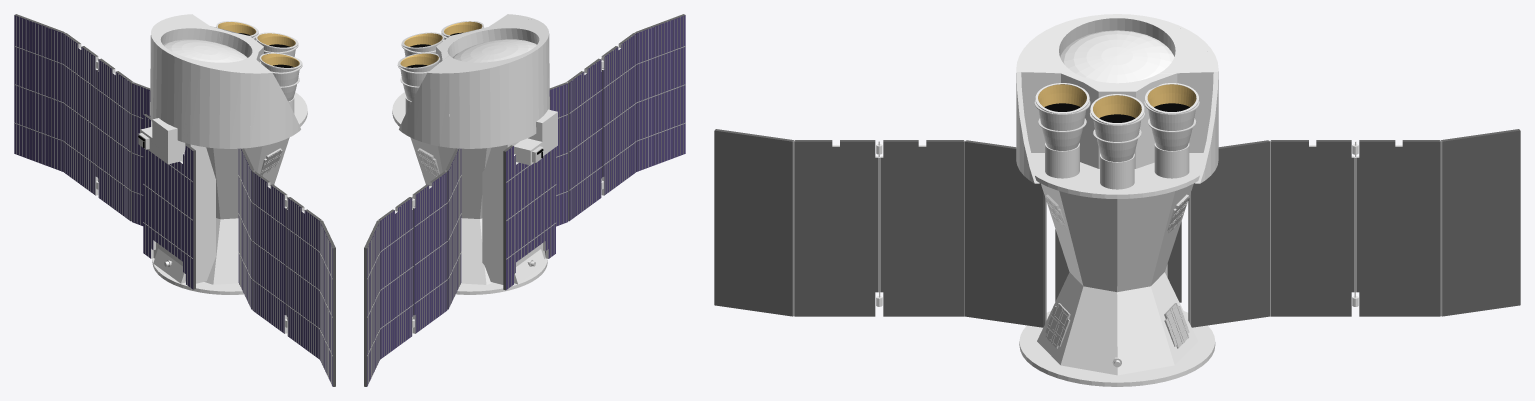
Rendered from Submillimeter Wave Astronomy Satellite (SWAS).glb.
The picture shows the model from 3 angles, left to right: view 1: azimuth 30°, elevation 25°; view 2: azimuth 150°, elevation 25°; view 3: azimuth 270°, elevation 25°; orthographic projection. The views are drawn at different scales.
Parts seen in each view (by area): view 1: <LWODefault>; view 2: <LWODefault>; view 3: <LWODefault>.
Boxes of the visible parts, x1,y1,x2,y2 form: <LWODefault>: (14,14,335,386); <LWODefault>: (364,14,685,386); <LWODefault>: (714,14,1520,386).
Size of the model in its own units: 21.82 by 32.63 by 82.26.
